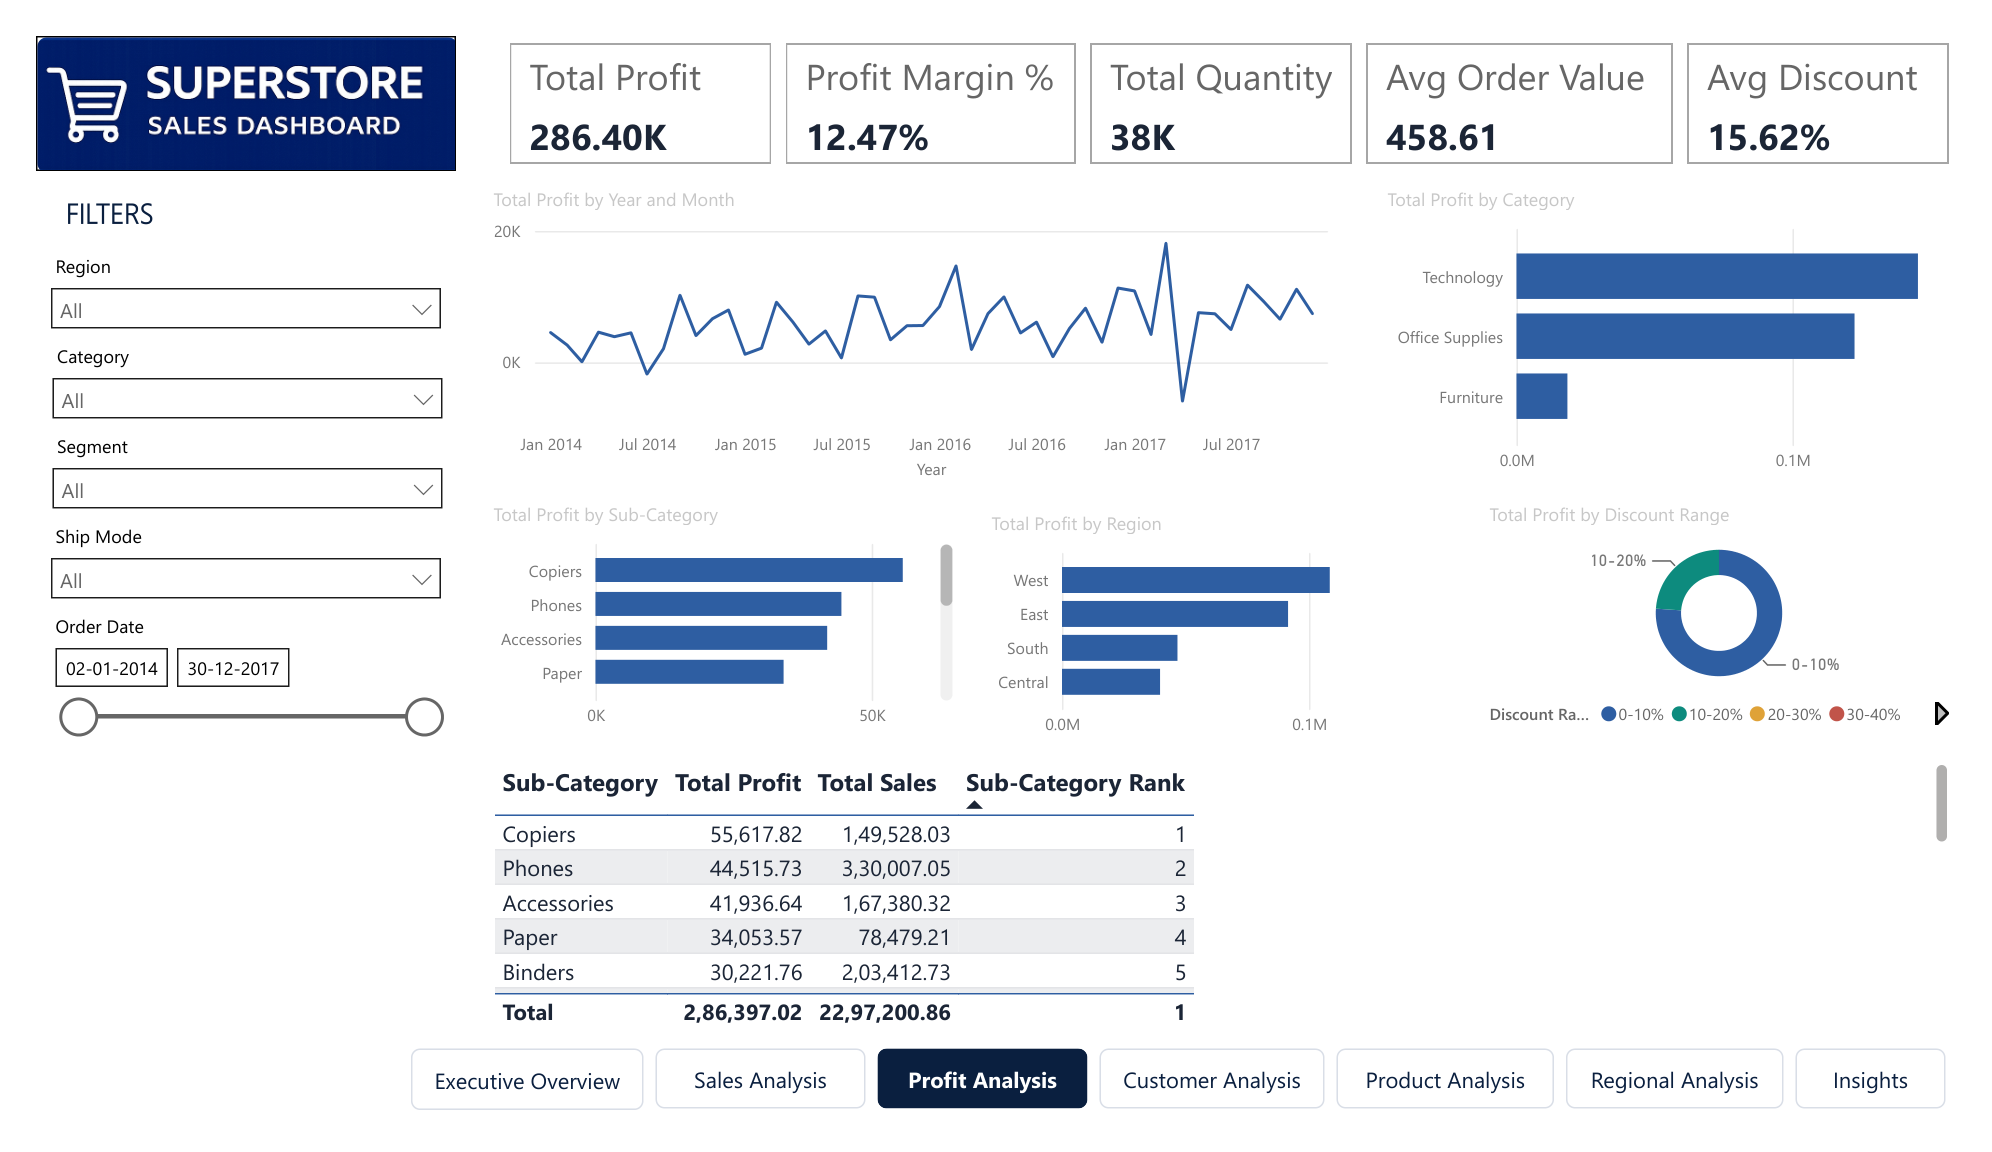

What the dashboard file says about the page in this screenshot:
{"tool":"powerbi","page":{"name":"Profit Analysis","canvas":[1280,720],"ordinal":2},"visuals":[{"type":"cardVisual","fields":{"Data":["Sample - Superstore 2.Profit Margin %"]},"box":[495.1,0,203.3,89.6],"z":0},{"type":"cardVisual","fields":{"Data":["Sample - Superstore 2.Total Profit"]},"box":[311.3,0,183.8,89.6],"z":1000},{"type":"cardVisual","fields":{"Data":["Sample - Superstore 2.Total Quantity"]},"box":[698.4,0,183.8,89.6],"z":2000},{"type":"cardVisual","fields":{"Data":["Sample - Superstore 2.Avg Order Value"]},"box":[882.2,0,213.7,89.6],"z":3000},{"type":"cardVisual","fields":{"Data":["Sample - Superstore 2.Avg Discount"]},"box":[1095.9,0,183.8,89.6],"z":4000},{"type":"lineChart","fields":{"Category":["Date.Date.Variation.Date Hierarchy.Year","Date.Date.Variation.Date Hierarchy.Month"],"Y":["Sample - Superstore 2.Total Profit"]},"box":[300,100,576,200],"z":5000},{"type":"clusteredBarChart","fields":{"Category":["Sample - Superstore 2.Category"],"Y":["Sample - Superstore 2.Total Profit"]},"box":[896,100,384,200],"z":6000},{"type":"clusteredBarChart","fields":{"Category":["Sample - Superstore 2.Sub-Category"],"Y":["Sample - Superstore 2.Total Profit"]},"box":[300,310,316,160],"z":7000},{"type":"clusteredBarChart","fields":{"Category":["Sample - Superstore 2.Region"],"Y":["Sample - Superstore 2.Total Profit"]},"box":[632,316,316,160],"z":8000},{"type":"donutChart","fields":{"Category":["Sample - Superstore 2.Discount Range"],"Y":["Sample - Superstore 2.Total Profit"]},"box":[964,310,316,160],"z":9000},{"type":"actionButton","title":"sdgtsdgte","box":[250,675,155,40.7],"z":10000},{"type":"actionButton","box":[413,675,140,40],"z":11000},{"type":"actionButton","box":[867,675,145,40],"z":12000},{"type":"actionButton","box":[709,675,150,40],"z":13000},{"type":"actionButton","box":[561,675,140,40],"z":14000},{"type":"actionButton","box":[1020,675,145,40],"z":15000},{"type":"actionButton","box":[1173,675,100,40],"z":16000},{"type":"slicer","fields":{"Values":["Sample - Superstore 2.Region"]},"box":[0,140,280,55],"z":17000},{"type":"slicer","fields":{"Values":["Sample - Superstore 2.Category"]},"box":[1.1,200,280,55],"z":18000},{"type":"slicer","fields":{"Values":["Sample - Superstore 2.Order Date"]},"box":[0,380,280.3,130],"z":19000},{"type":"slicer","fields":{"Values":["Sample - Superstore 2.Segment"]},"box":[1.1,260,280,55],"z":20000},{"type":"slicer","fields":{"Values":["Sample - Superstore 2.Ship Mode"]},"box":[0,320,280,54.6],"z":21000},{"type":"image","box":[0,0,280.3,89.6],"z":22000},{"type":"textbox","box":[15,100,200,35],"z":23000},{"type":"tableEx","fields":{"Values":["Sample - Superstore 2.Sub-Category","Sample - Superstore 2.Total Profit","Sample - Superstore 2.Total Sales","Sample - Superstore 2.Sub-Category Rank"]},"box":[300.2,480.3,979.8,185.2],"z":24000}]}

Visuals, with their boxes in screenshot pixels (x1, y1, x2, y2), scaled from the page's 1280x720 canvas onto the 1992x1152 screenshot:
cardVisual - Sample - Superstore 2.Profit Margin %: 770, 0, 1087, 143
cardVisual - Sample - Superstore 2.Total Profit: 484, 0, 770, 143
cardVisual - Sample - Superstore 2.Total Quantity: 1087, 0, 1373, 143
cardVisual - Sample - Superstore 2.Avg Order Value: 1373, 0, 1705, 143
cardVisual - Sample - Superstore 2.Avg Discount: 1705, 0, 1991, 143
lineChart - Date.Date.Variation.Date Hierarchy.Year x Date.Date.Variation.Date Hierarchy.Month: 467, 160, 1363, 480
clusteredBarChart - Sample - Superstore 2.Category x Sample - Superstore 2.Total Profit: 1394, 160, 1991, 480
clusteredBarChart - Sample - Superstore 2.Sub-Category x Sample - Superstore 2.Total Profit: 467, 496, 959, 752
clusteredBarChart - Sample - Superstore 2.Region x Sample - Superstore 2.Total Profit: 984, 506, 1475, 762
donutChart - Sample - Superstore 2.Discount Range x Sample - Superstore 2.Total Profit: 1500, 496, 1991, 752
"sdgtsdgte" actionButton: 389, 1080, 630, 1145
actionButton: 643, 1080, 861, 1144
actionButton: 1349, 1080, 1575, 1144
actionButton: 1103, 1080, 1337, 1144
actionButton: 873, 1080, 1091, 1144
actionButton: 1587, 1080, 1813, 1144
actionButton: 1825, 1080, 1981, 1144
slicer - Sample - Superstore 2.Region: 0, 224, 436, 312
slicer - Sample - Superstore 2.Category: 2, 320, 437, 408
slicer - Sample - Superstore 2.Order Date: 0, 608, 436, 816
slicer - Sample - Superstore 2.Segment: 2, 416, 437, 504
slicer - Sample - Superstore 2.Ship Mode: 0, 512, 436, 599
image: 0, 0, 436, 143
textbox: 23, 160, 335, 216
tableEx - Sample - Superstore 2.Sub-Category x Sample - Superstore 2.Total Profit: 467, 768, 1991, 1065
